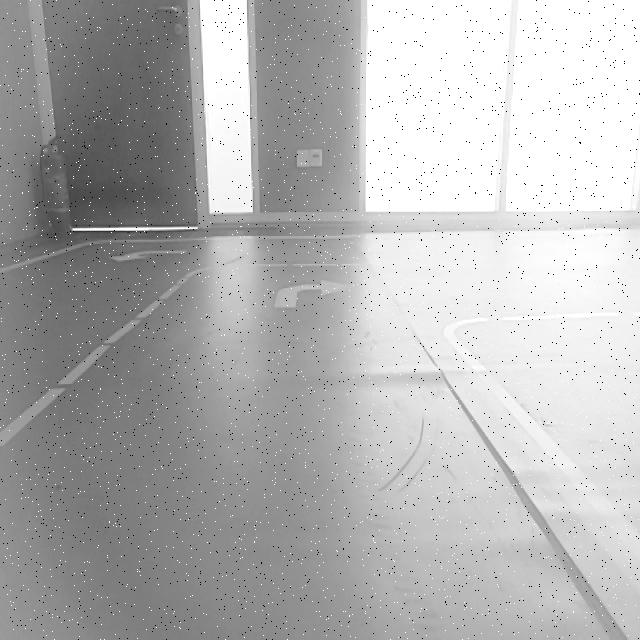left_lane: (0, 271, 190, 451)
right_lane: (446, 335, 640, 592)
